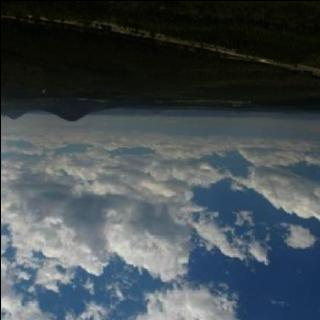Cumulus: (0, 129, 320, 320)
